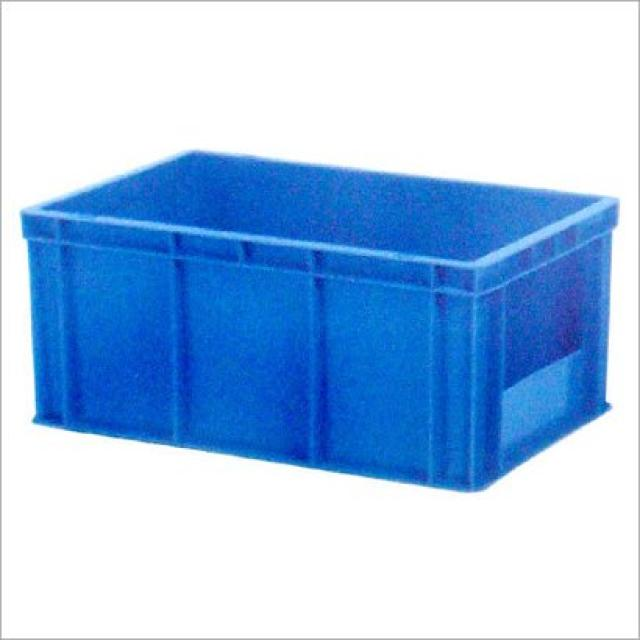basket: (0, 133, 632, 504)
